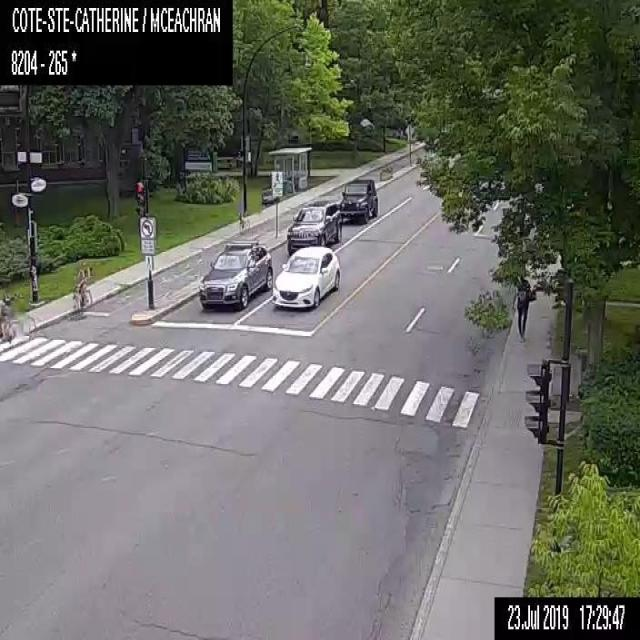cyclist: (0, 292, 35, 339), (72, 263, 93, 313), (238, 202, 250, 233)
pedestrian: (511, 276, 535, 337)
vehicle: (198, 238, 272, 307), (272, 245, 340, 308), (287, 200, 342, 256), (339, 177, 378, 223)
